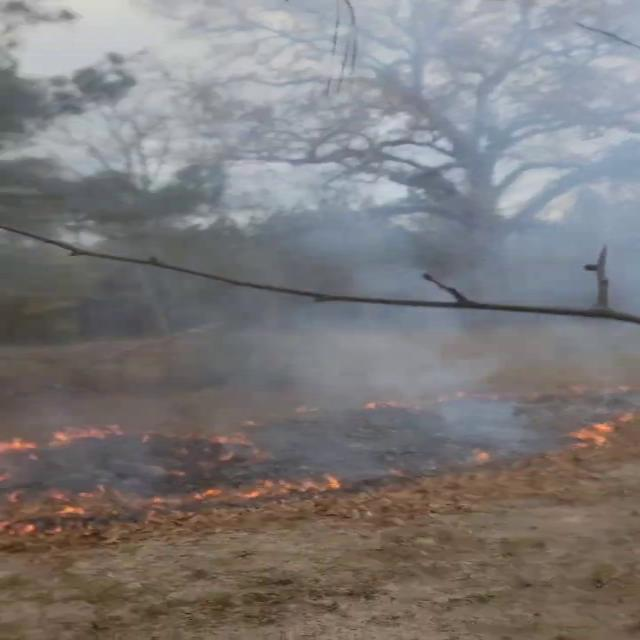Fire: (568, 404, 638, 450)
Smoke: (2, 0, 640, 506)
